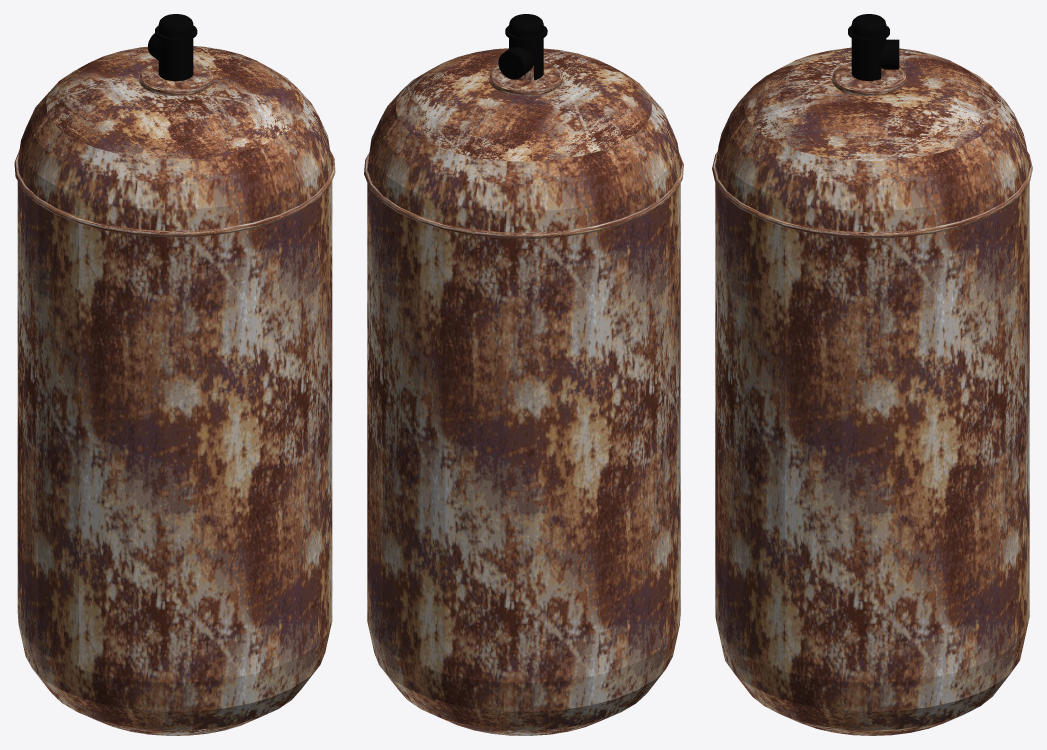
File: Scrap_parts_metal_bottle.glb
3 renders of one model, left to right at view 1: azimuth 30°, elevation 25°; view 2: azimuth 150°, elevation 25°; view 3: azimuth 270°, elevation 25°, orthographic.
Visible parts, largest first — view 1: Cylinder.004; view 2: Cylinder.004; view 3: Cylinder.004.
Part boxes in pixels (bbox=[...]): Cylinder.004: bbox=[14, 14, 335, 735]; Cylinder.004: bbox=[364, 14, 683, 735]; Cylinder.004: bbox=[712, 14, 1032, 735].
Bounding box in the file's own units: 0.8717 × 2.04 × 0.8717.
Materials: 2 (1 with a texture image).
